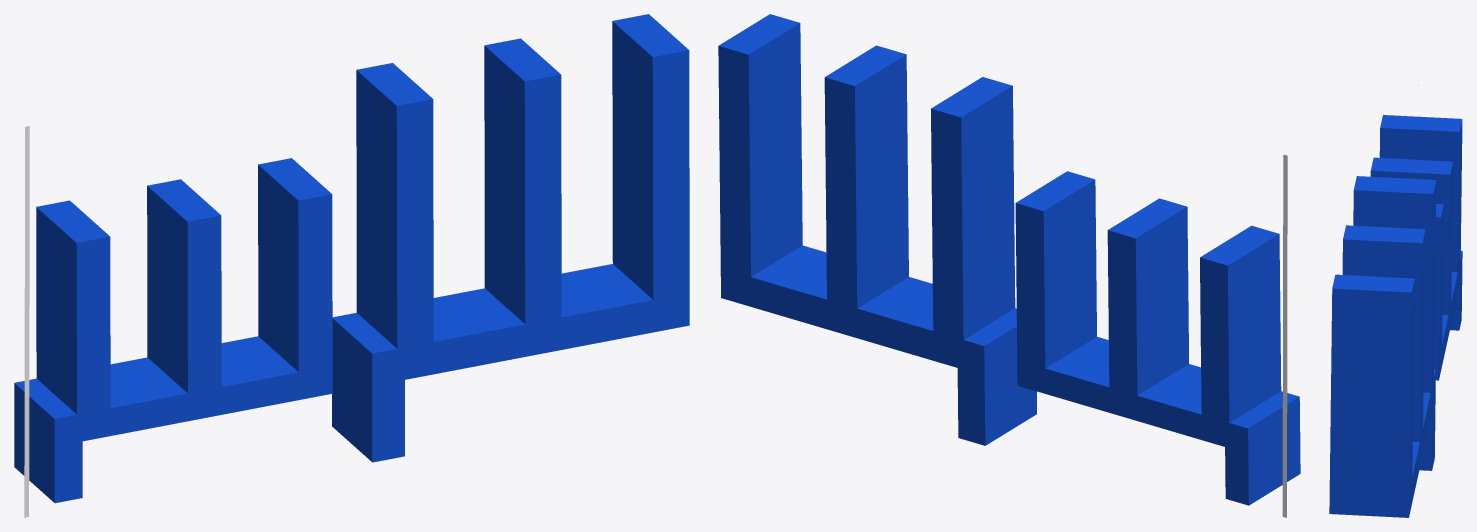
3 renders of one model, left to right at view 1: azimuth 30°, elevation 25°; view 2: azimuth 150°, elevation 25°; view 3: azimuth 270°, elevation 25°, orthographic. The views are drawn at different scales.
Visible parts, largest first — view 1: Mesh_0.031, Плоскость; view 2: Mesh_0.031, Плоскость; view 3: Mesh_0.031.
Part boxes in pixels (<box>): Mesh_0.031: <box>14,14,689,503</box>; Плоскость: <box>24,126,29,517</box>; Mesh_0.031: <box>718,14,1300,505</box>; Плоскость: <box>1282,154,1287,517</box>; Mesh_0.031: <box>1329,115,1462,517</box>.
Size of the model in its own units: 15.55 by 9.38 by 3.51.
